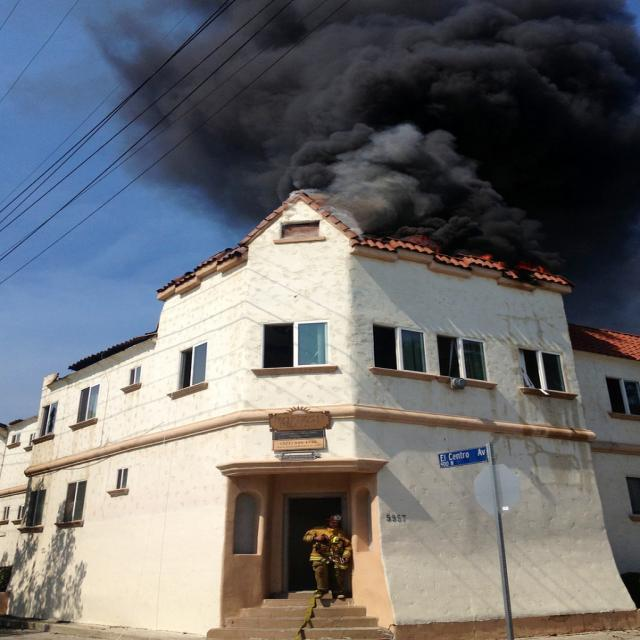Smoke: (82, 0, 640, 323)
